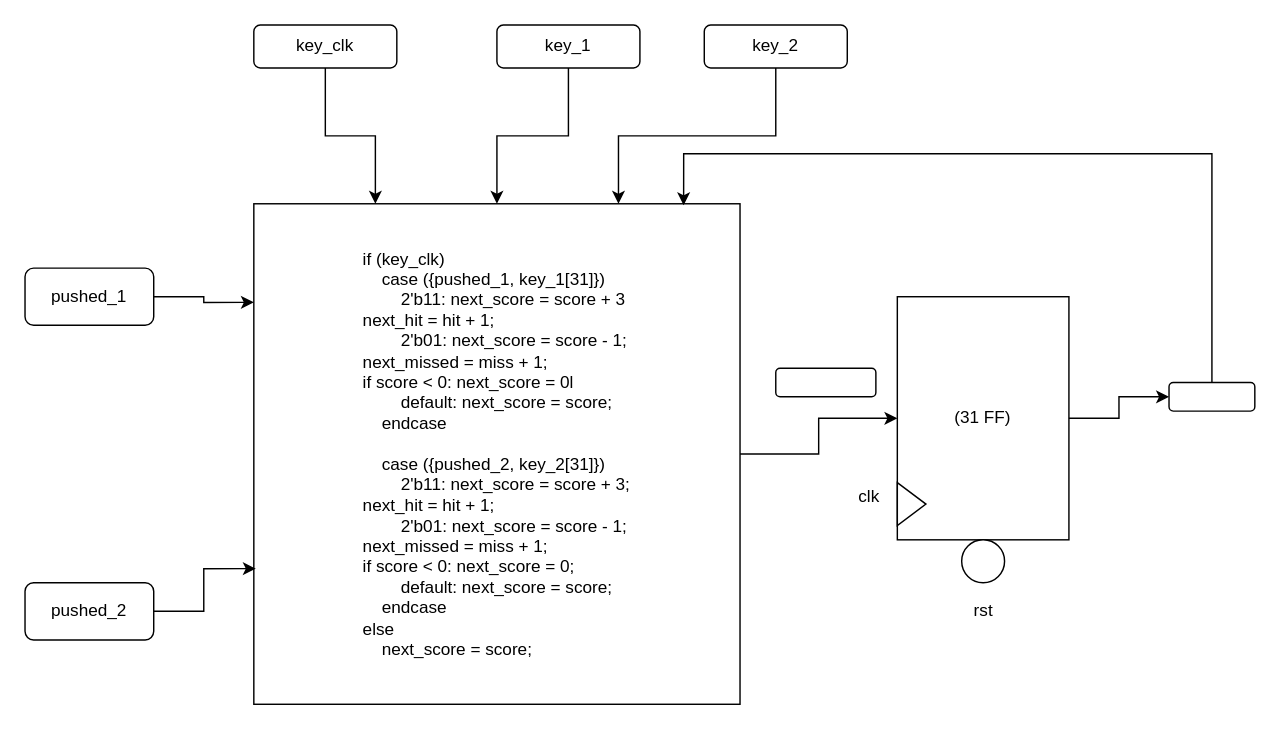
This 1280x729 diagram has some shape labels left out. The centre of each missing label's shape, as x and y in pixels:
next_score: point 825,382
score: point 1211,396
